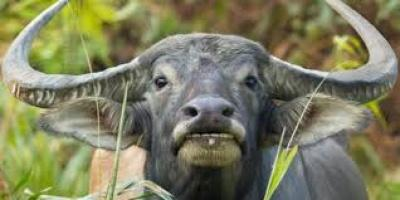buffalo: (3, 0, 397, 199)
